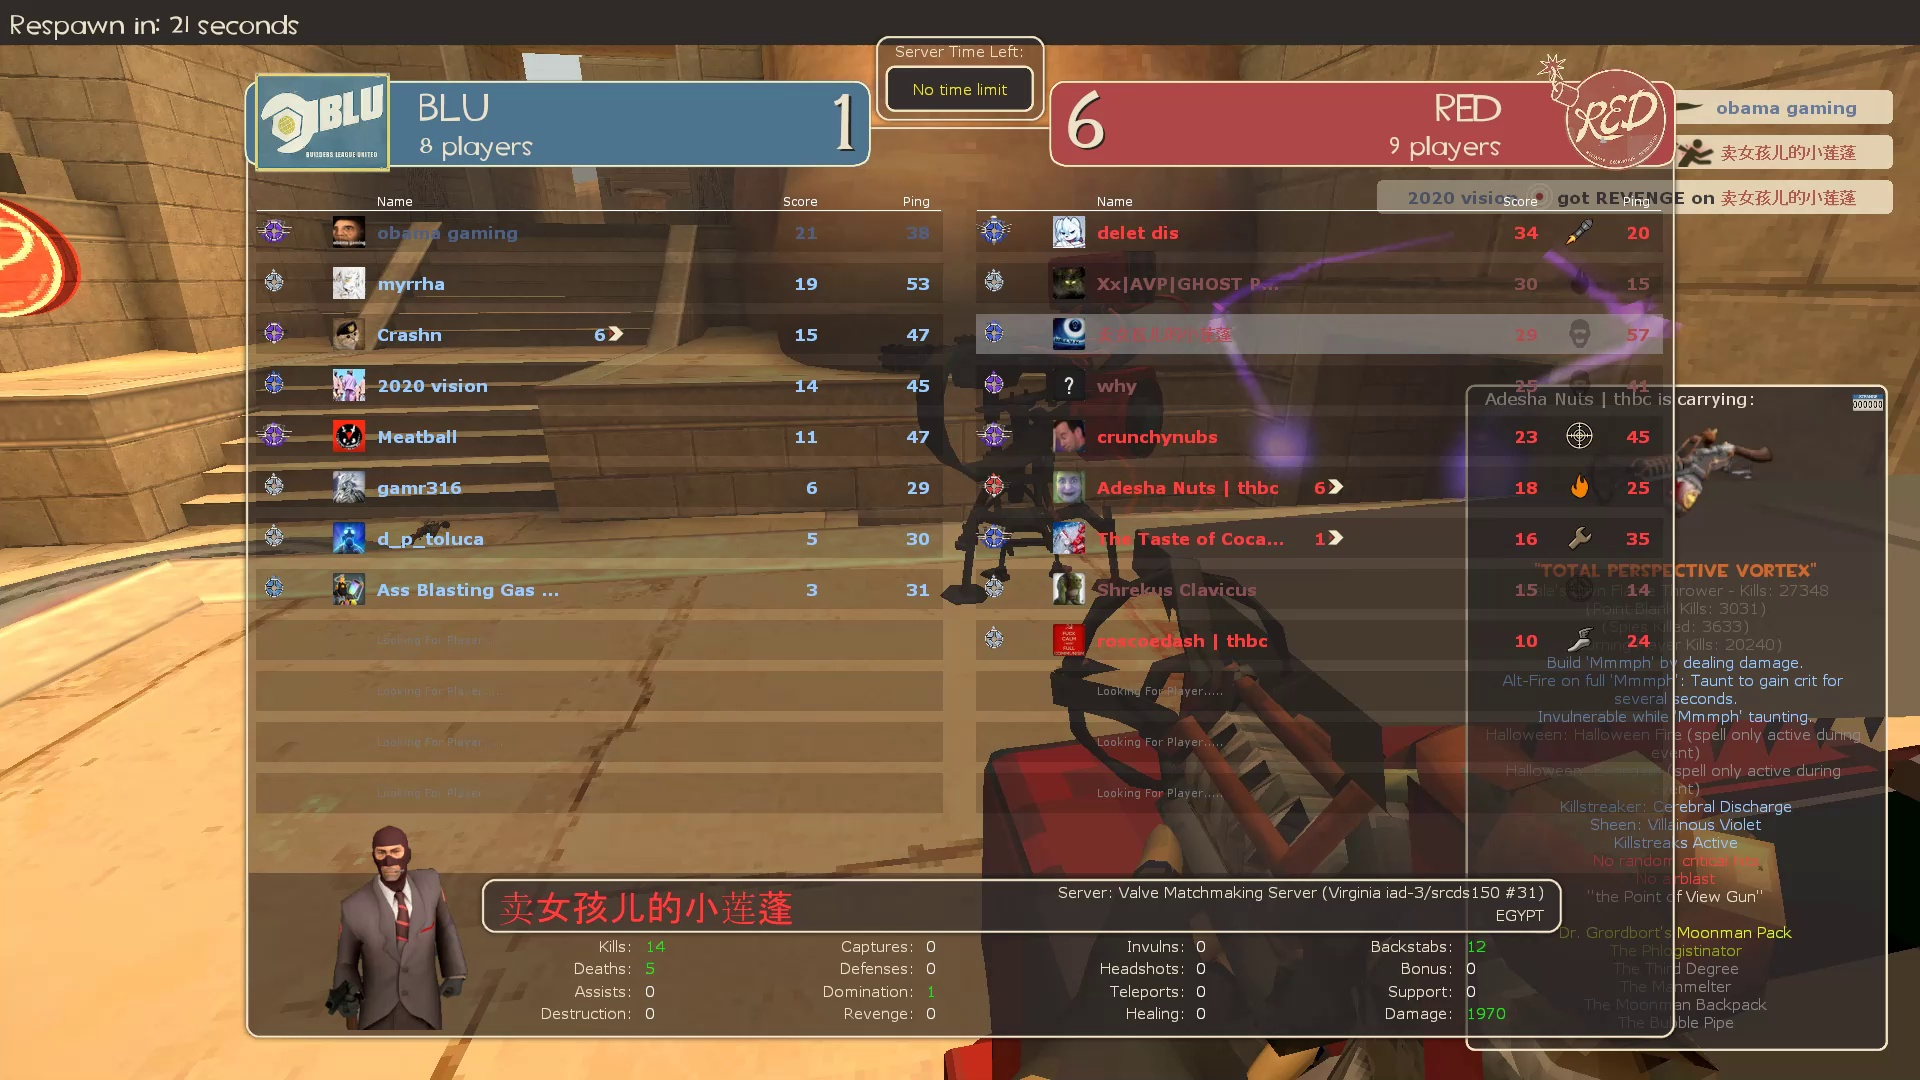red_sentry_3: (874, 235, 1185, 607)
